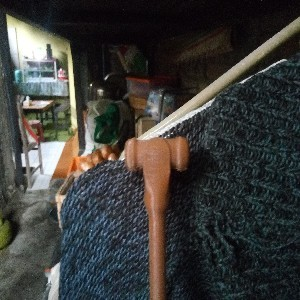palu: (124, 135, 191, 300)
